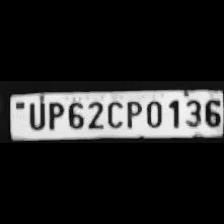0: (142, 97, 164, 128)
1: (164, 96, 182, 130)
2: (84, 98, 104, 130)
3: (182, 96, 202, 128)
6: (200, 96, 222, 128), (64, 99, 84, 129)
C: (104, 98, 122, 128)
P: (44, 99, 64, 130), (122, 97, 142, 128)
U: (24, 99, 44, 130)
